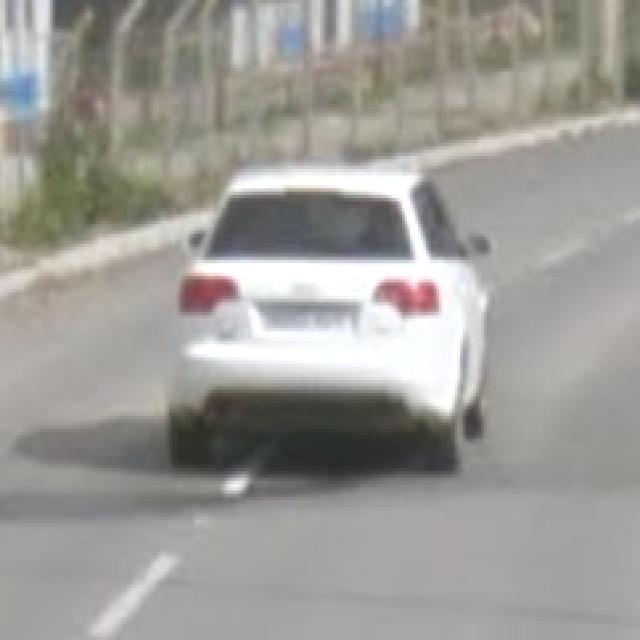car: (177, 155, 490, 472)
